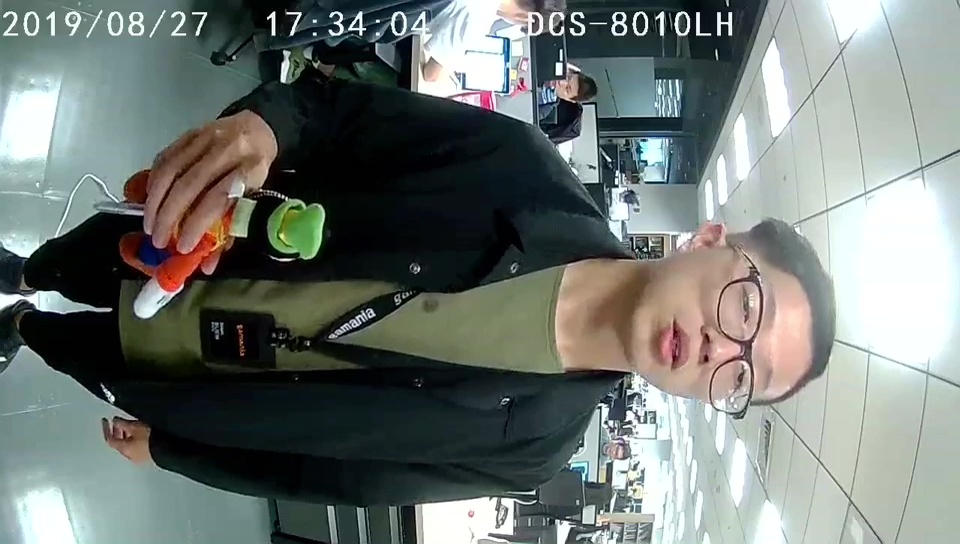goofy: (120, 170, 325, 320)
